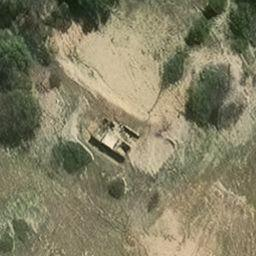manzanas: (83, 108, 142, 165)
